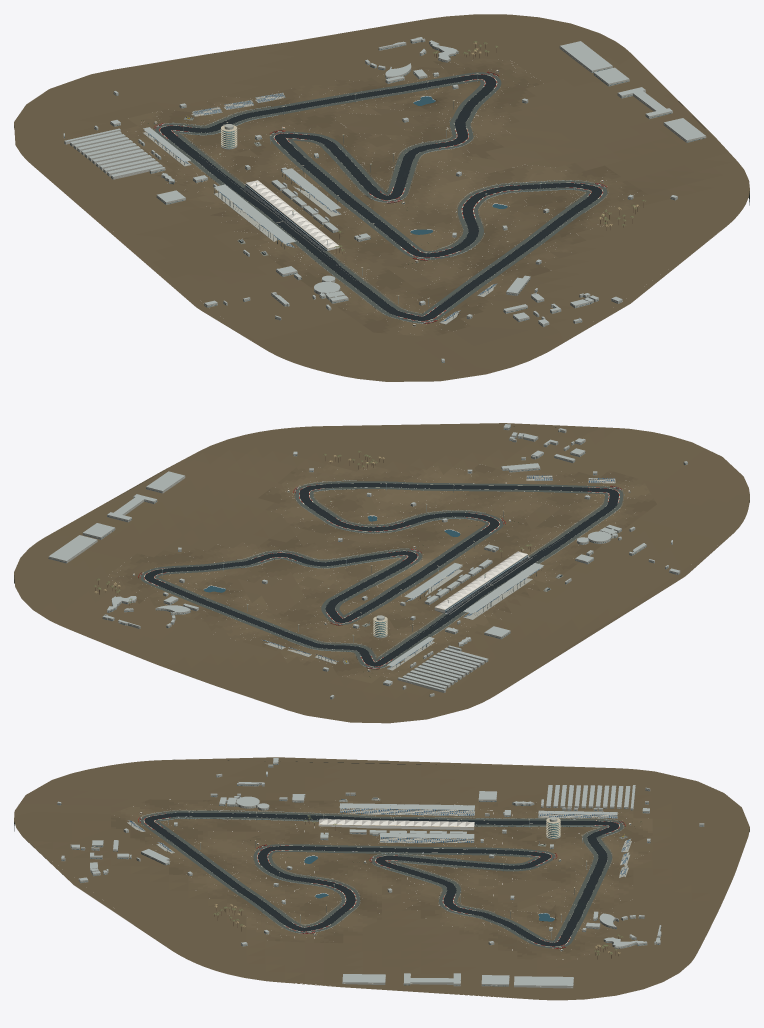
The model's file is Sakhir.glb.
3 renders of one model, top to bottom at view 1: azimuth 30°, elevation 25°; view 2: azimuth 150°, elevation 25°; view 3: azimuth 270°, elevation 25°, orthographic. The views are drawn at different scales.
Visible parts, largest first — view 1: terrain/ground, terrain-ground-finish-1, terrain-ground-finish-2, terrain-ground-finish-3, road/asphalt, terrain-ground-finish-0, runoff/runoff, terrain-ground-finish-4, shoulder/runoff, terrain-extension/land, barriers/steel, urban-map-tile--3--4/roof (+6 smaller); view 2: terrain/ground, terrain-ground-finish-1, terrain-ground-finish-2, terrain-ground-finish-3, road/asphalt, terrain-ground-finish-0, runoff/runoff, terrain-ground-finish-4, shoulder/runoff, terrain-extension/land, barriers/steel, pit-facility/tensile-canopy (+6 smaller); view 3: terrain/ground, terrain-ground-finish-1, terrain-ground-finish-2, terrain-ground-finish-3, road/asphalt, terrain-ground-finish-0, runoff/runoff, terrain-ground-finish-4, shoulder/runoff, terrain-extension/land, barriers/steel, pit-facility/tensile-canopy (+9 smaller).
Boxes of the visible parts, left/top/right/bottom form: terrain/ground: left=14, top=14, right=749, bottom=381; terrain-ground-finish-1: left=151, top=61, right=647, bottom=335; terrain-ground-finish-2: left=133, top=59, right=647, bottom=336; terrain-ground-finish-3: left=121, top=58, right=634, bottom=336; road/asphalt: left=160, top=74, right=602, bottom=320; terrain-ground-finish-0: left=155, top=61, right=642, bottom=334; runoff/runoff: left=155, top=72, right=607, bottom=322; terrain-ground-finish-4: left=127, top=66, right=630, bottom=335; shoulder/runoff: left=159, top=74, right=603, bottom=321; terrain-extension/land: left=37, top=63, right=735, bottom=348; barriers/steel: left=154, top=106, right=608, bottom=323; urban-map-tile--3--4/roof: left=64, top=120, right=144, bottom=158; terrain/ground: left=14, top=426, right=749, bottom=723; terrain-ground-finish-1: left=114, top=465, right=654, bottom=676; terrain-ground-finish-2: left=110, top=462, right=653, bottom=673; terrain-ground-finish-3: left=108, top=464, right=651, bottom=679; road/asphalt: left=144, top=483, right=618, bottom=666; terrain-ground-finish-0: left=125, top=464, right=656, bottom=672; runoff/runoff: left=140, top=481, right=623, bottom=667; terrain-ground-finish-4: left=115, top=464, right=649, bottom=683; shoulder/runoff: left=143, top=482, right=619, bottom=666; terrain-extension/land: left=64, top=423, right=727, bottom=688; barriers/steel: left=237, top=480, right=624, bottom=668; pit-facility/tensile-canopy: left=435, top=551, right=527, bottom=609; terrain/ground: left=14, top=759, right=749, bottom=1000; terrain-ground-finish-1: left=111, top=800, right=652, bottom=959; terrain-ground-finish-2: left=111, top=800, right=651, bottom=959; terrain-ground-finish-3: left=117, top=801, right=652, bottom=959; road/asphalt: left=144, top=812, right=619, bottom=946; terrain-ground-finish-0: left=111, top=799, right=647, bottom=956; runoff/runoff: left=140, top=811, right=623, bottom=948; terrain-ground-finish-4: left=120, top=801, right=652, bottom=959; shoulder/runoff: left=143, top=812, right=620, bottom=946; terrain-extension/land: left=26, top=757, right=605, bottom=998; barriers/steel: left=139, top=810, right=624, bottom=933; pit-facility/tensile-canopy: left=319, top=819, right=474, bottom=826.
Bounding box in the file's own units: 1530 × 79.32 × 1902.
